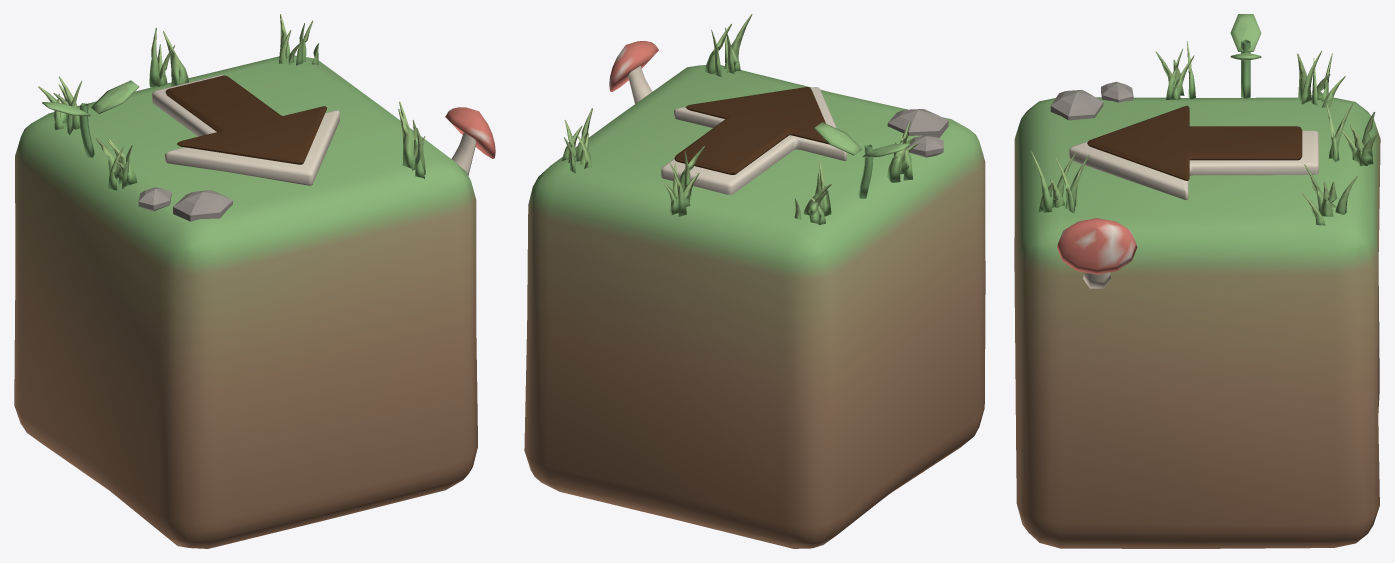
The model's file is toprak_hi.glb.
The picture shows the model from 3 angles, left to right: view 1: azimuth 30°, elevation 25°; view 2: azimuth 150°, elevation 25°; view 3: azimuth 270°, elevation 25°; orthographic projection.
Visible parts, largest first — view 1: toprak_hi; view 2: toprak_hi; view 3: toprak_hi.
Boxes of the visible parts, box(x1,y1,x2,y2) form: toprak_hi: box(14, 14, 495, 548); toprak_hi: box(524, 14, 985, 548); toprak_hi: box(1014, 14, 1380, 548).
Size of the model in its own units: 1.05 by 1.06 by 0.9104.
